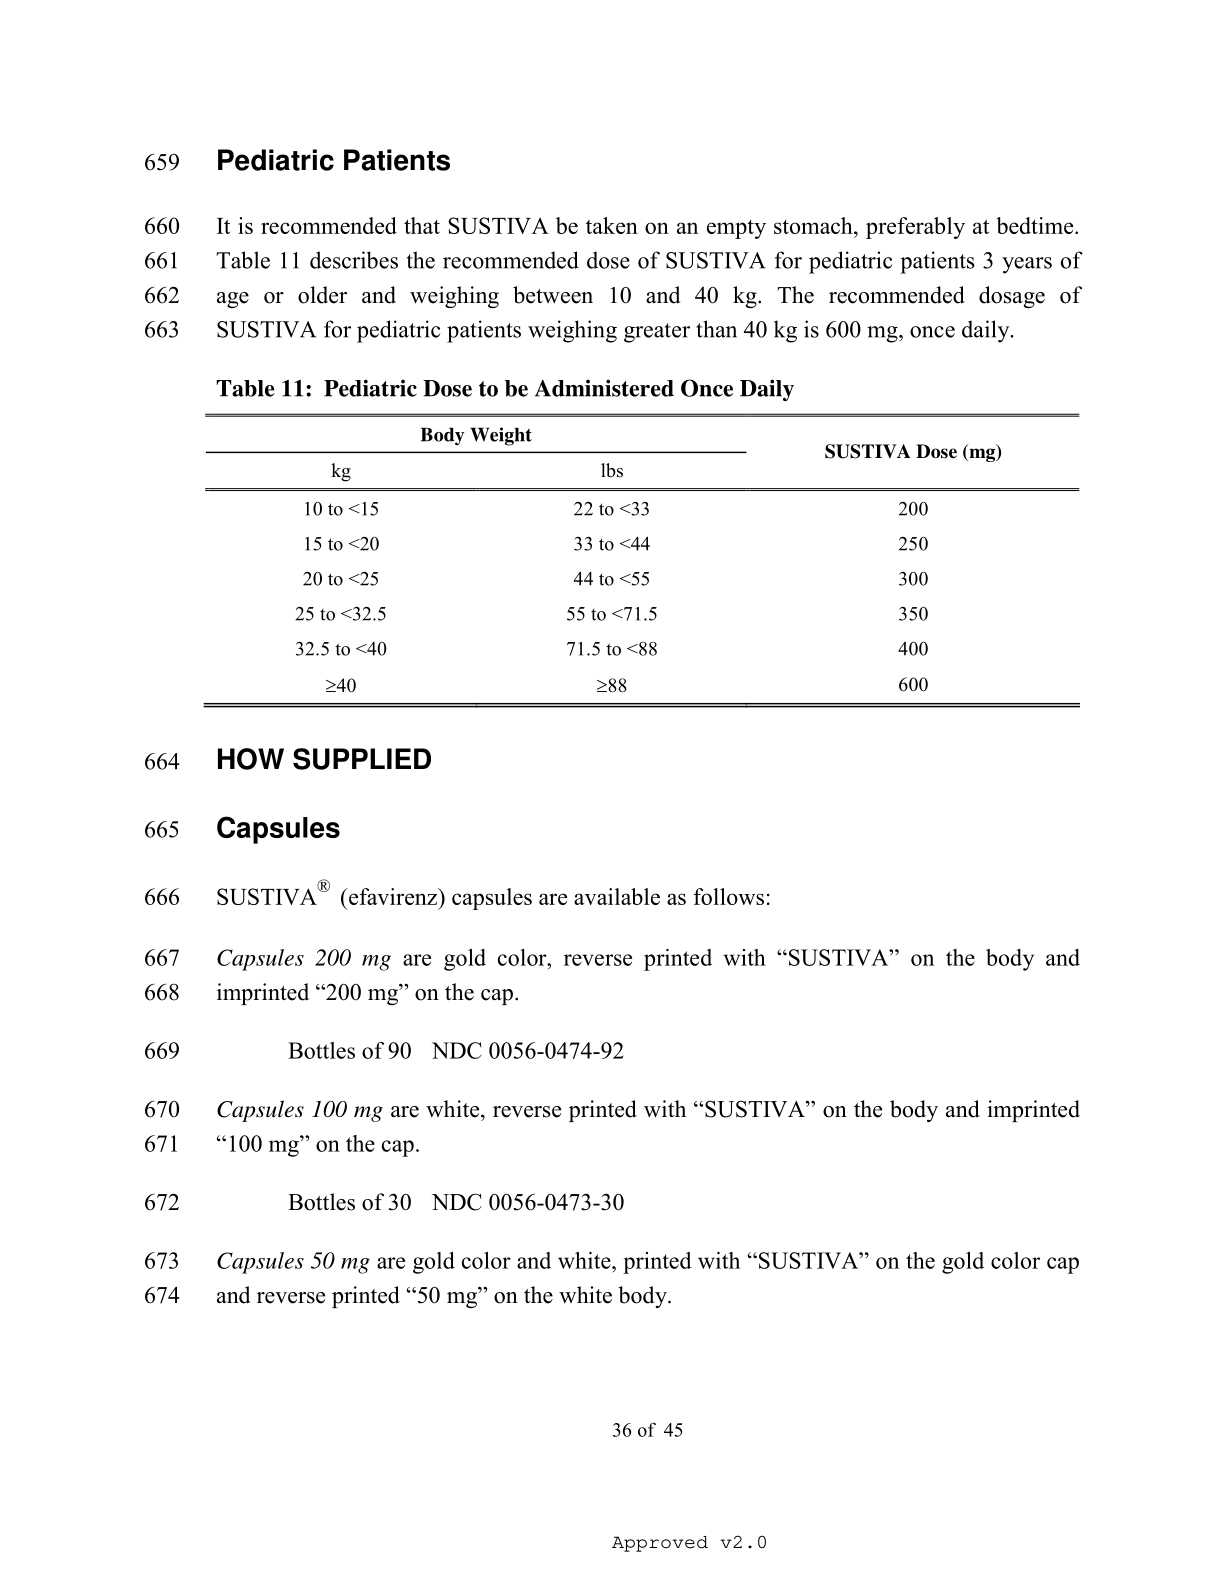partial_lined_merged_cells: (202, 413, 1080, 708)
